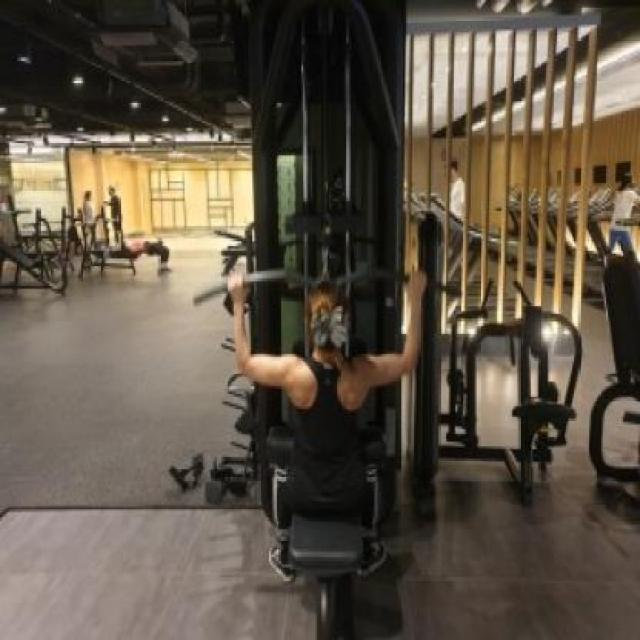Lat Pull Down: (166, 3, 452, 640)
